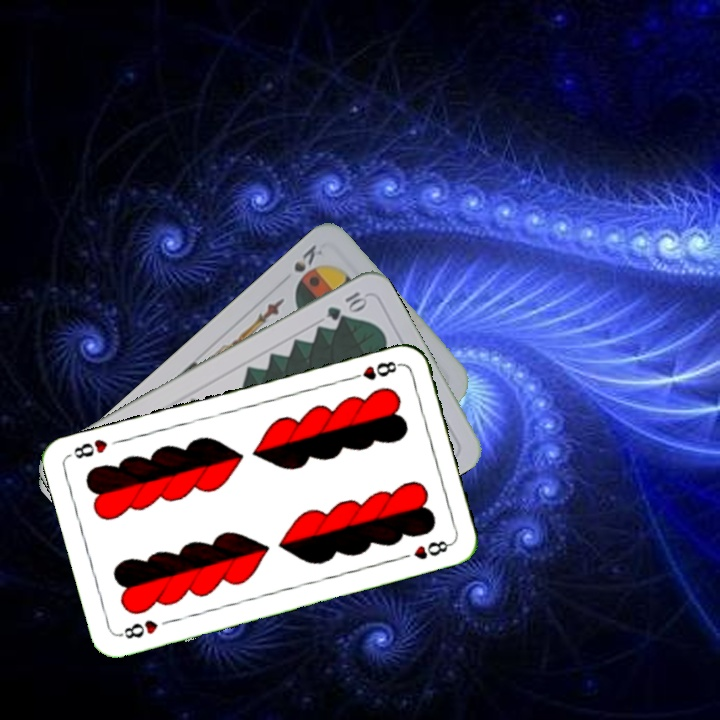G10: (322, 287, 370, 323)
H8: (345, 357, 403, 383), (115, 616, 161, 642)
SK: (290, 240, 326, 276)
